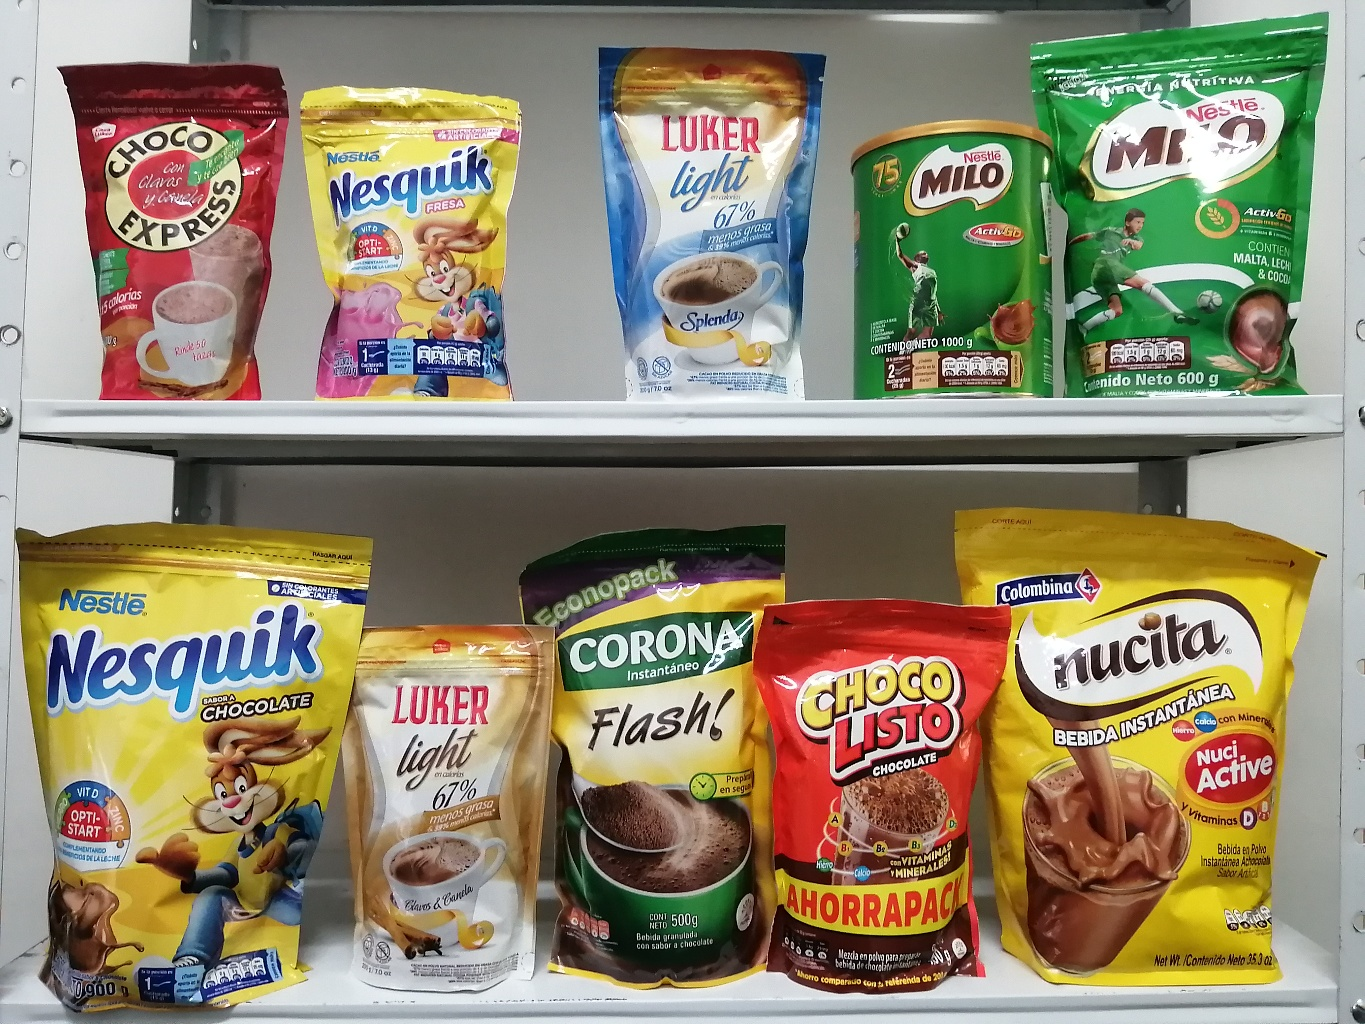COL0170103DYP40000: (760, 591, 1027, 998)
COL0170305DYP20000: (303, 83, 540, 399)
